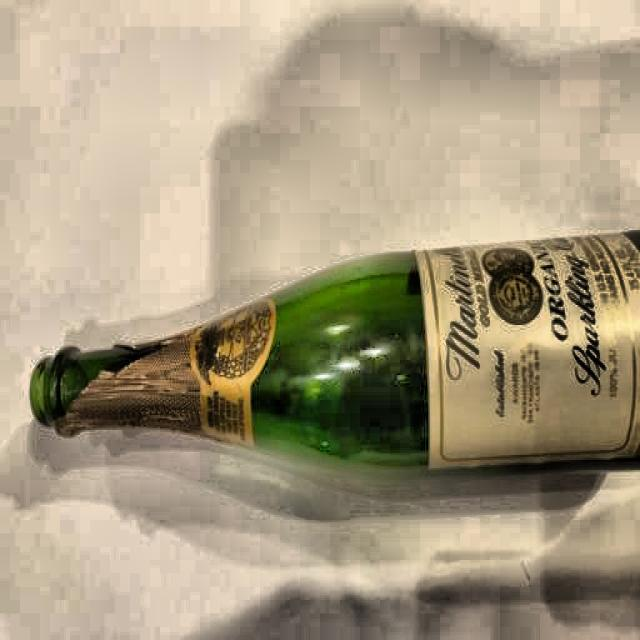glass: (29, 228, 640, 476)
